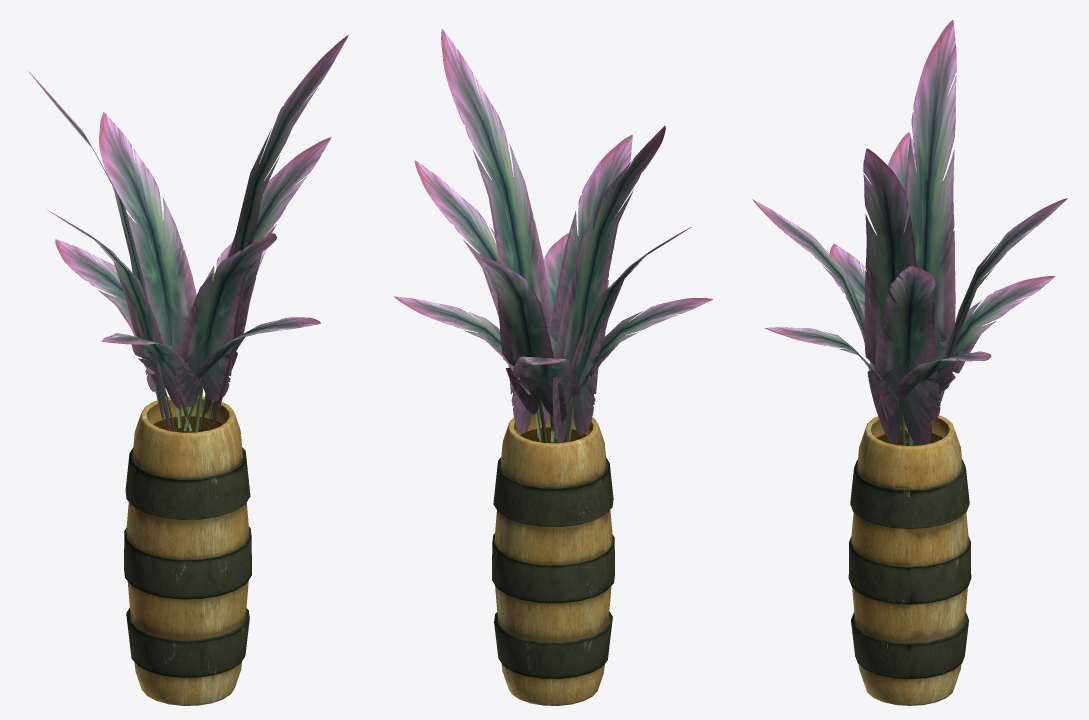
File: Planter(skinny).fbx
3 views of the same model, side by side, from view 1: azimuth 30°, elevation 25°; view 2: azimuth 150°, elevation 25°; view 3: azimuth 270°, elevation 25° (orthographic). The views are drawn at different scales.
Visible parts, largest first — view 1: barrel_low, Barrel_leaves; view 2: Barrel_leaves, barrel_low; view 3: Barrel_leaves, barrel_low.
Part boxes in pixels (left/top/right/bottom): barrel_low: left=124, top=396, right=251, bottom=705; Barrel_leaves: left=28, top=35, right=348, bottom=432; Barrel_leaves: left=394, top=29, right=712, bottom=442; barrel_low: left=492, top=410, right=614, bottom=705; Barrel_leaves: left=752, top=20, right=1067, bottom=445; barrel_low: left=848, top=415, right=971, bottom=705.
Size of the model in its own units: 3.66 by 7.35 by 3.64.
2 materials, 2 textured.
